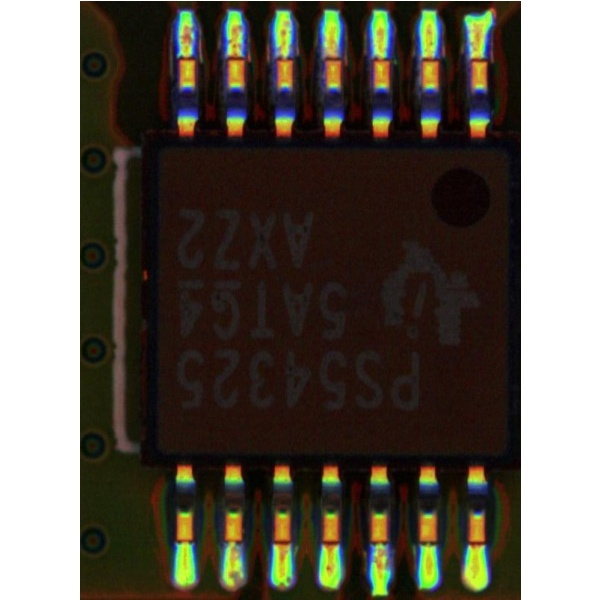Bad_podu: (469, 528, 482, 561), (325, 530, 338, 558), (276, 529, 287, 562), (325, 43, 338, 68), (229, 43, 241, 70)
